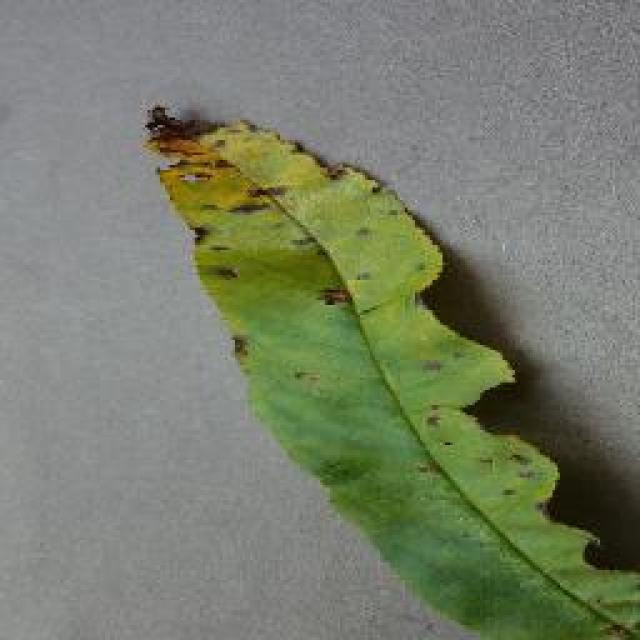Peach_Bacterial_Spot: (143, 42, 542, 495)
